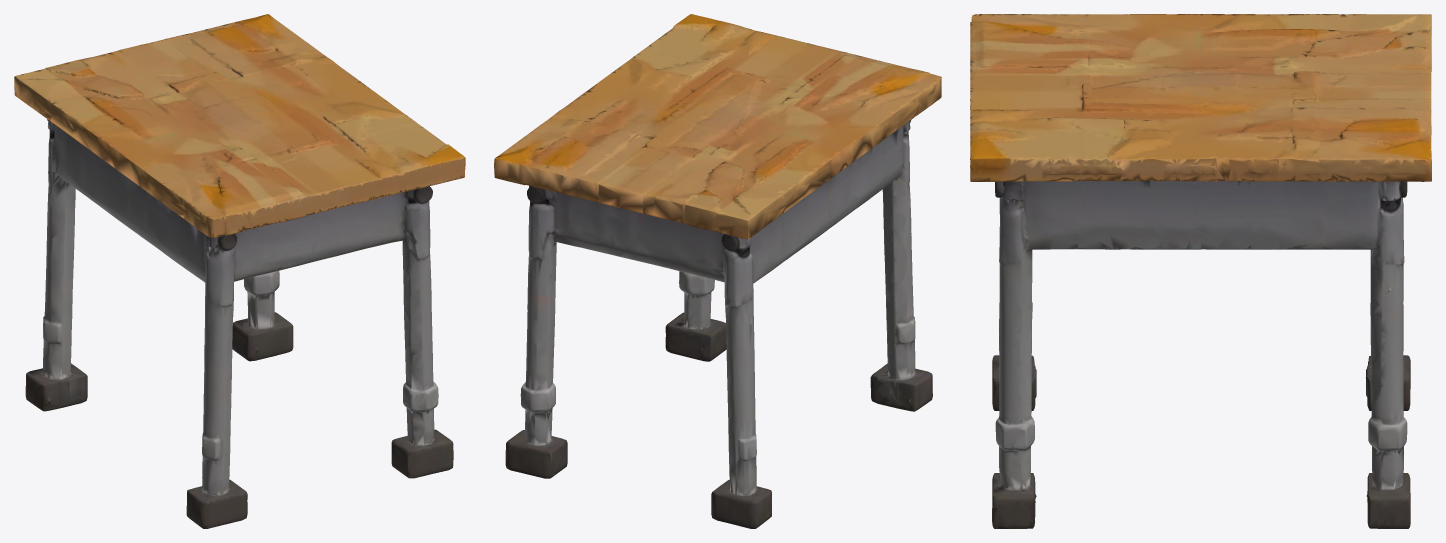
Rendered from bg_desk.glb.
3 renders of one model, left to right at view 1: azimuth 30°, elevation 25°; view 2: azimuth 150°, elevation 25°; view 3: azimuth 270°, elevation 25°, orthographic. The views are drawn at different scales.
Visible parts, largest first — view 1: tripo_node_dd8e2854-6699-4d16-8d03-badb4670b34a; view 2: tripo_node_dd8e2854-6699-4d16-8d03-badb4670b34a; view 3: tripo_node_dd8e2854-6699-4d16-8d03-badb4670b34a.
Boxes of the visible parts, box(x1,y1,x2,y2) form: tripo_node_dd8e2854-6699-4d16-8d03-badb4670b34a: box(14, 14, 465, 528); tripo_node_dd8e2854-6699-4d16-8d03-badb4670b34a: box(494, 14, 941, 528); tripo_node_dd8e2854-6699-4d16-8d03-badb4670b34a: box(970, 14, 1431, 528).
Bounding box in the file's own units: 0.7464 × 0.9011 × 0.9995.
1 material, 1 textured.
